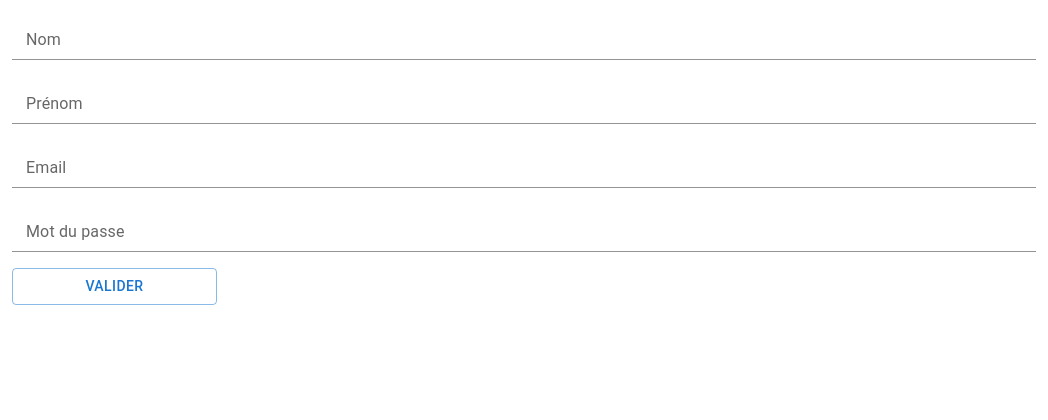
Scenario: Soumission du formulaire › La soumission du formulaire devrait échouer lorsque les données simulées sont invalides.
Step 1. Type "omar" into the field labelled "Nom" → (524, 44), box 12,28 -> 1036,60
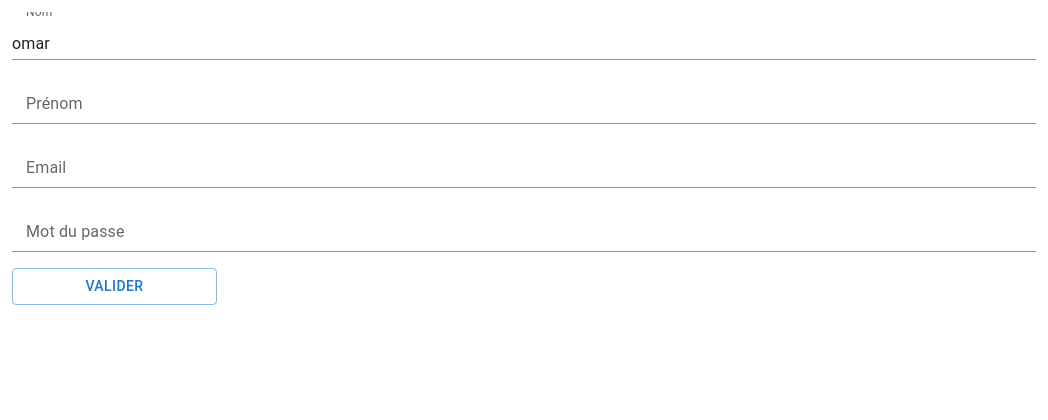
Step 2. Type "harroud" into the field labelled "Prénom" → (524, 108), box 12,92 -> 1036,124
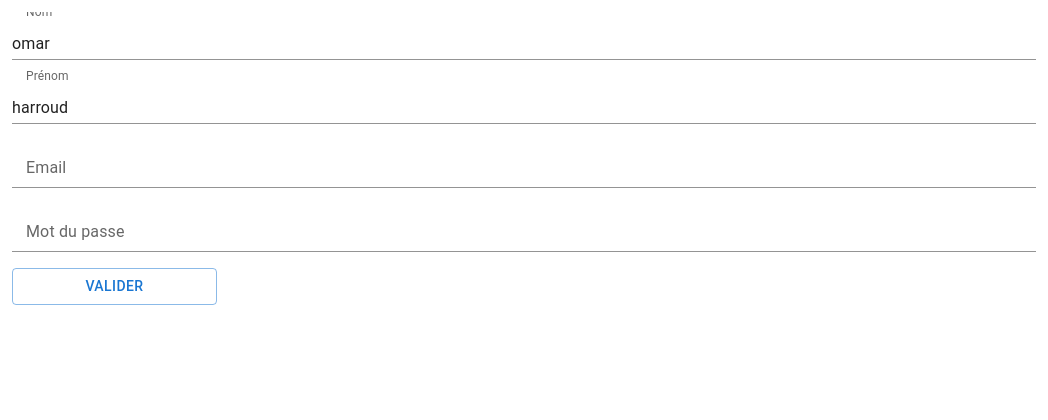
Step 3. Type "harroud.omar.dev@gmail" into the field labelled "Email" → (524, 172), box 12,156 -> 1036,188
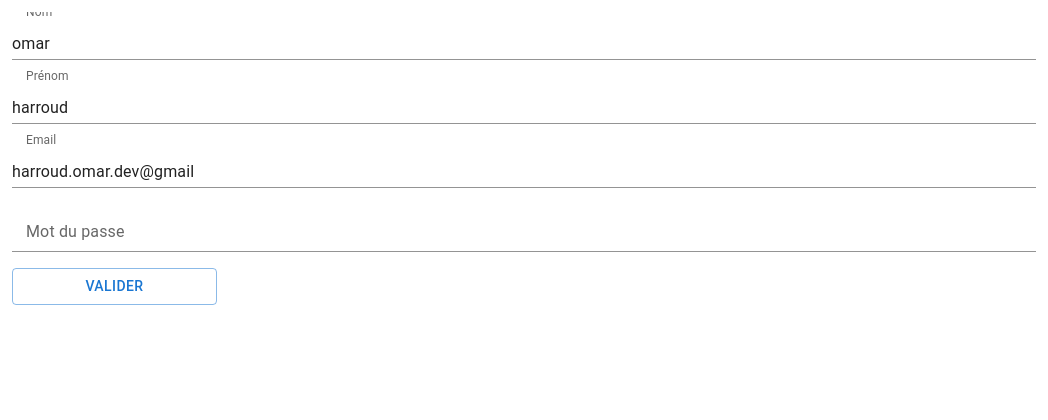
Step 4. Type "P@ssw0rd" into the password field labelled "Mot du passe" → (524, 236), box 12,220 -> 1036,252
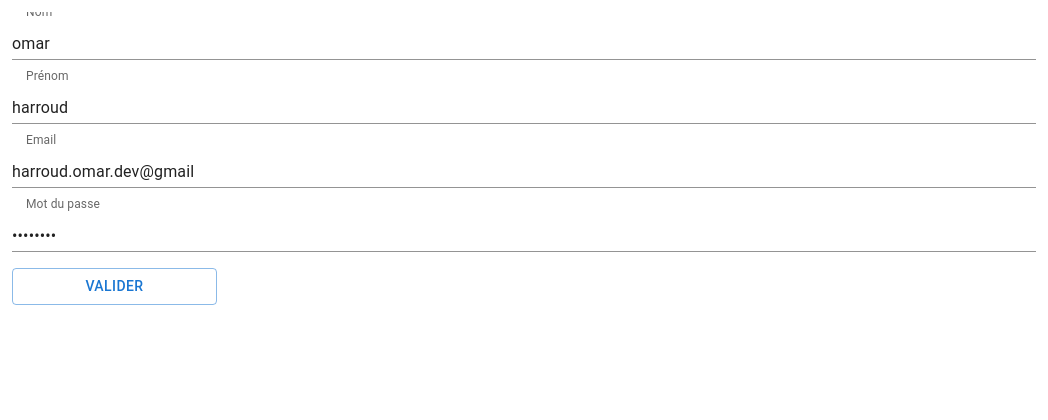
Step 5. Click the button with test id "test-submit" → (114, 286), box 12,268 -> 217,304
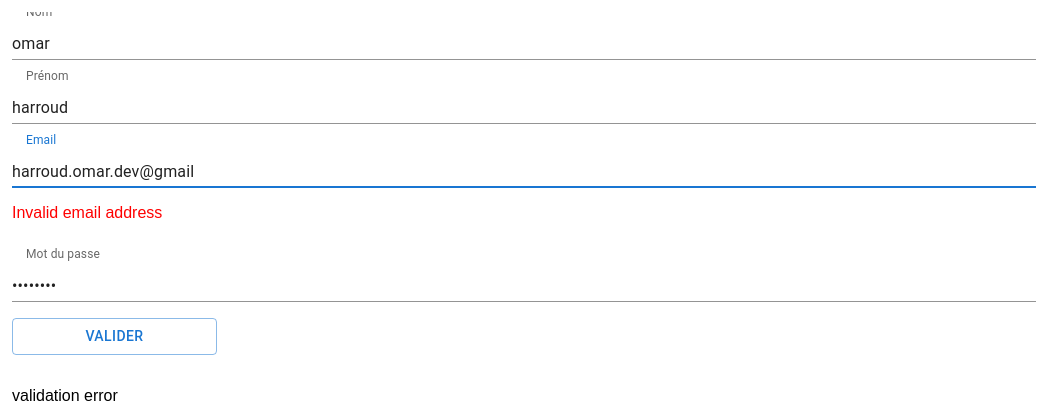
Result: the text "validation error" is shown at 12,386 -> 118,404
